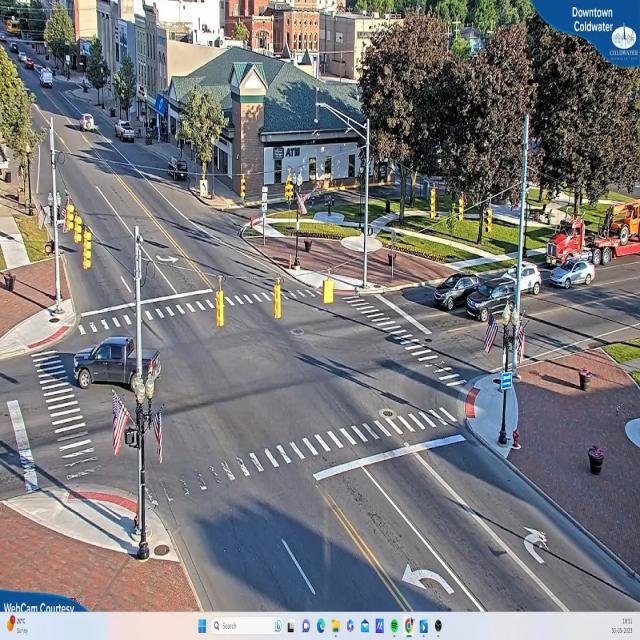car: (74, 337, 161, 391), (467, 278, 520, 325), (434, 271, 474, 312), (548, 258, 598, 289), (513, 255, 544, 298), (117, 122, 137, 144), (41, 76, 56, 89), (22, 57, 34, 69)
